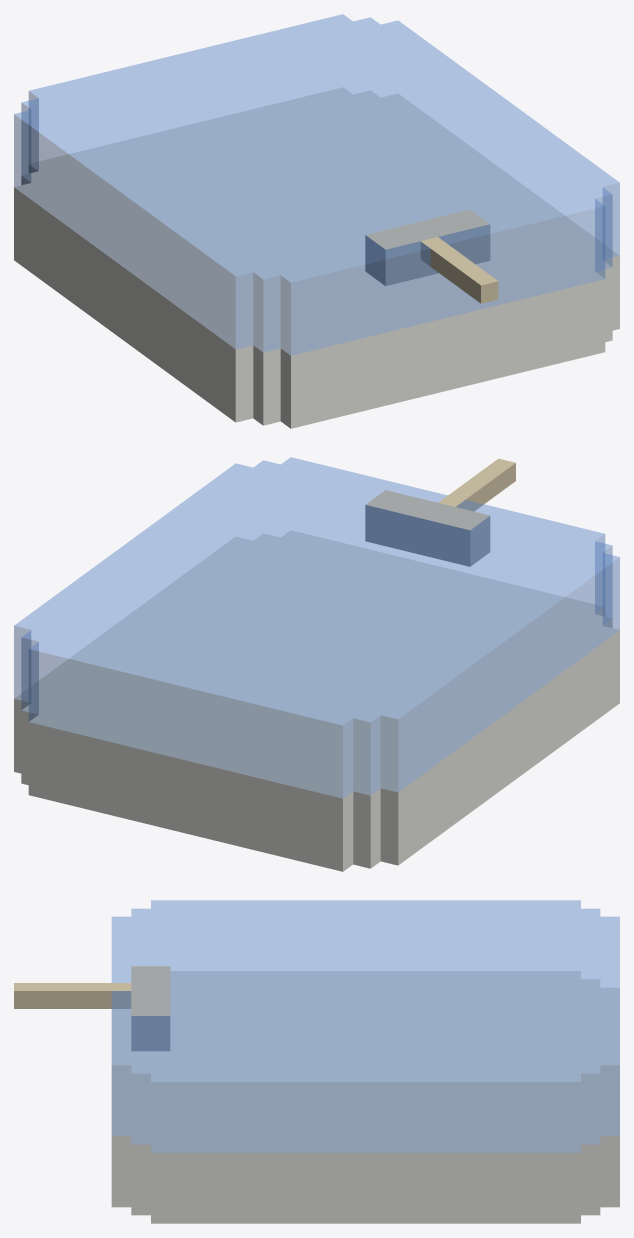
The model's file is string_floss.glb.
The picture shows the model from 3 angles, top to bottom: view 1: azimuth 30°, elevation 25°; view 2: azimuth 150°, elevation 25°; view 3: azimuth 270°, elevation 25°; orthographic projection. The views are drawn at different scales.
Parts seen in each view (by area): view 1: string_floss:compound; view 2: string_floss:compound; view 3: string_floss:compound.
Boxes of the visible parts, left/top/right/bottom form: string_floss:compound: left=14, top=14, right=619, bottom=428; string_floss:compound: left=14, top=457, right=619, bottom=871; string_floss:compound: left=14, top=900, right=619, bottom=1223.
Bounding box in the file's own units: 0.044 × 0.016 × 0.062.
